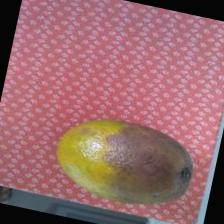Orange Rotten: (43, 104, 213, 220)
